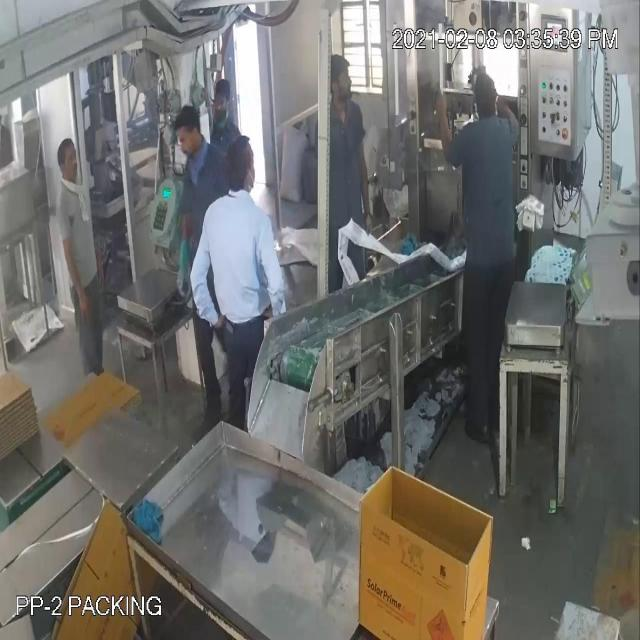No_Gloves: (24, 57, 504, 286)
